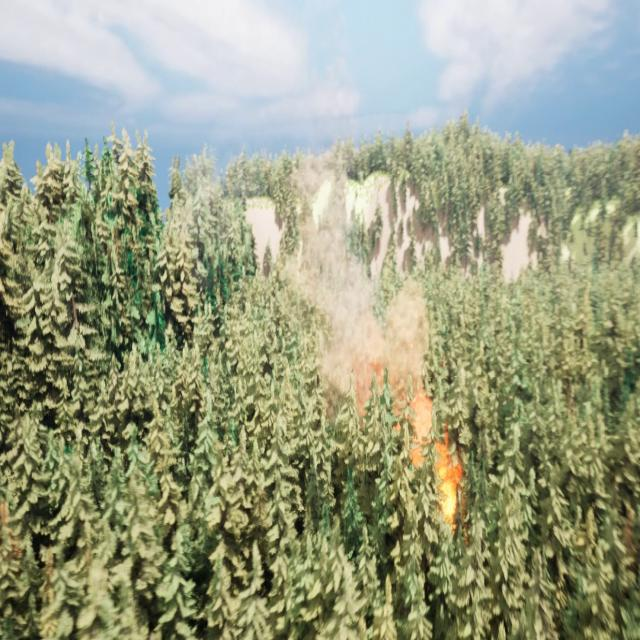fire: (408, 396, 462, 516)
smoke: (276, 157, 432, 452)
